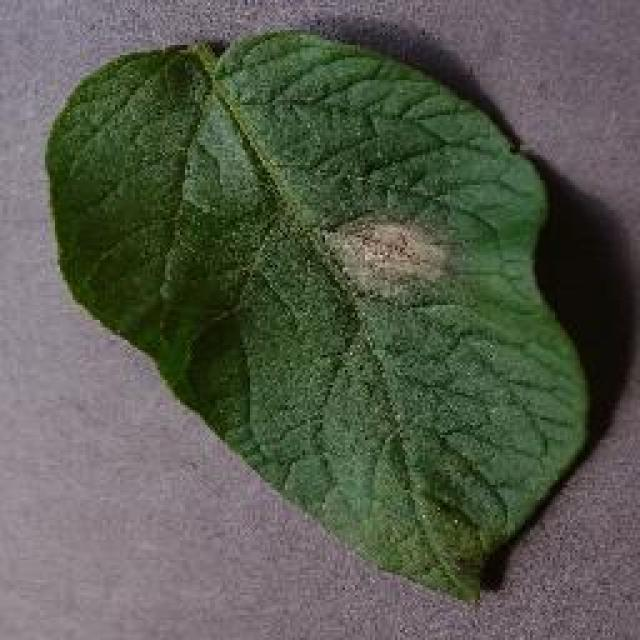Potato___Late_blight: (43, 30, 592, 607)
